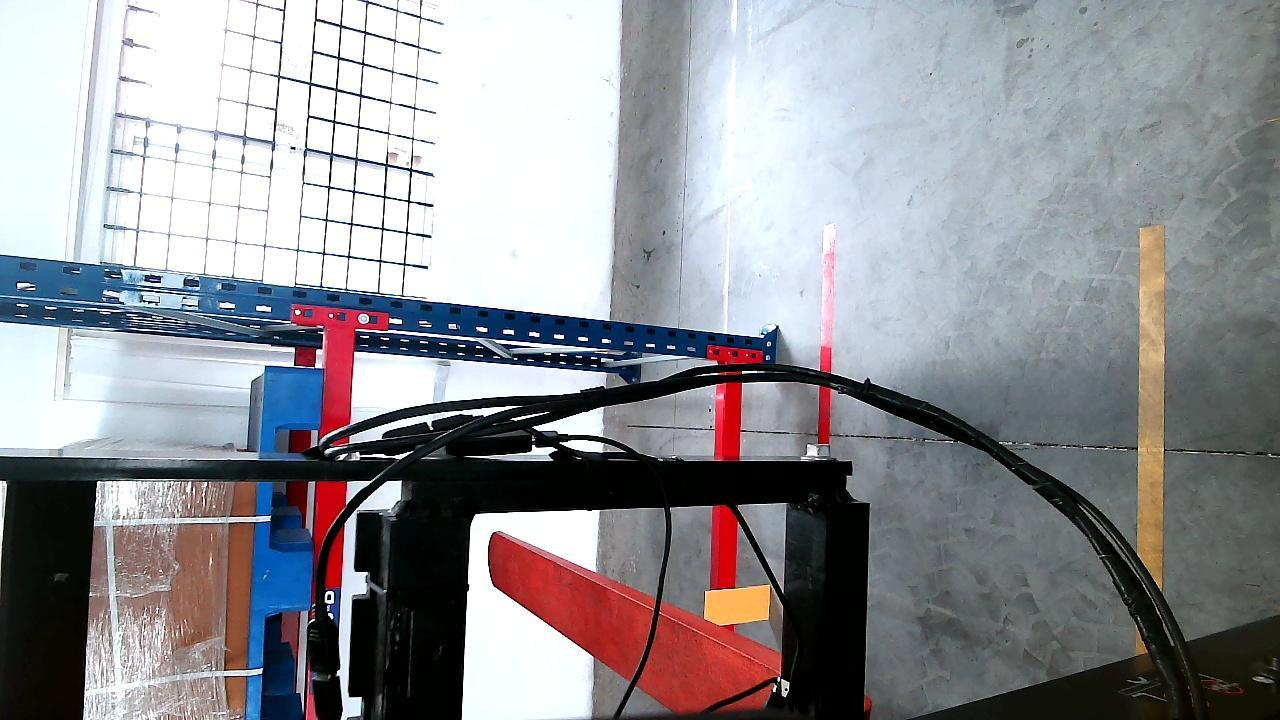red_line: (816, 234, 836, 457)
yellow_line: (1137, 218, 1166, 589)
